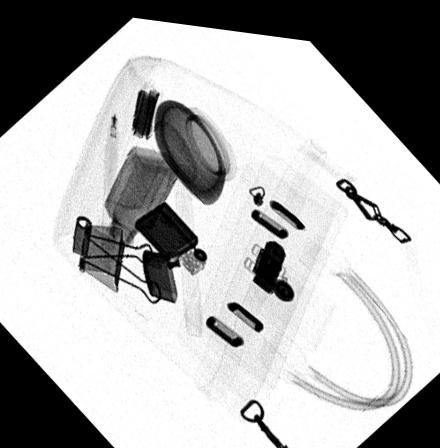Lighter: (134, 194, 206, 297)
